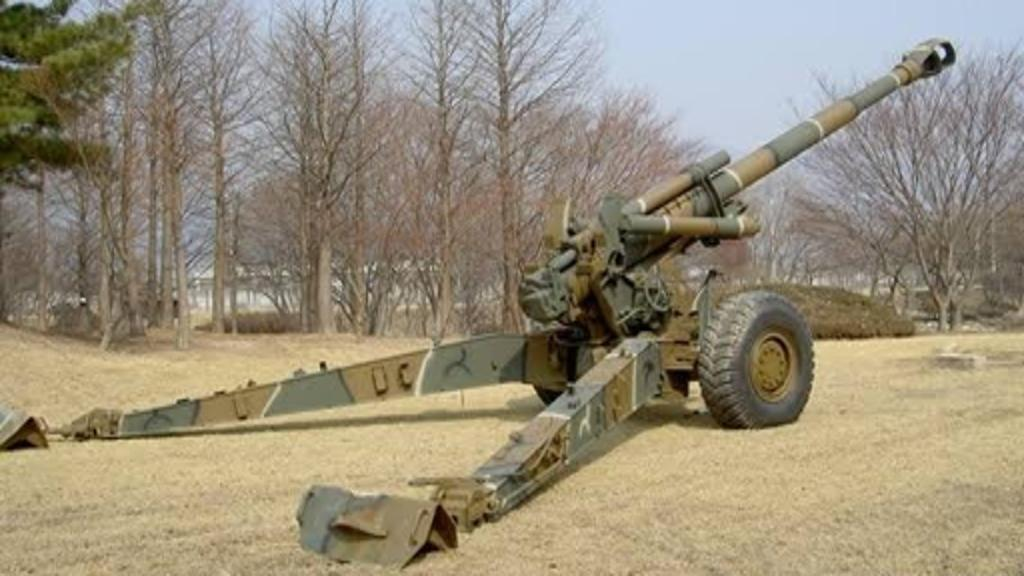ART: (0, 30, 958, 571)
